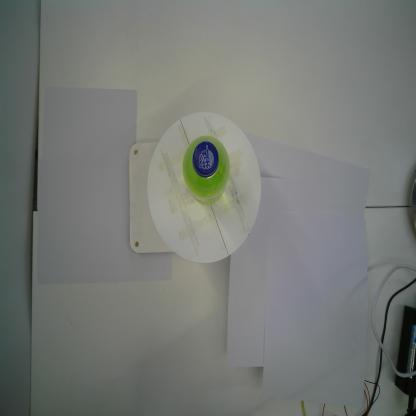Drink: (181, 132, 231, 208)
